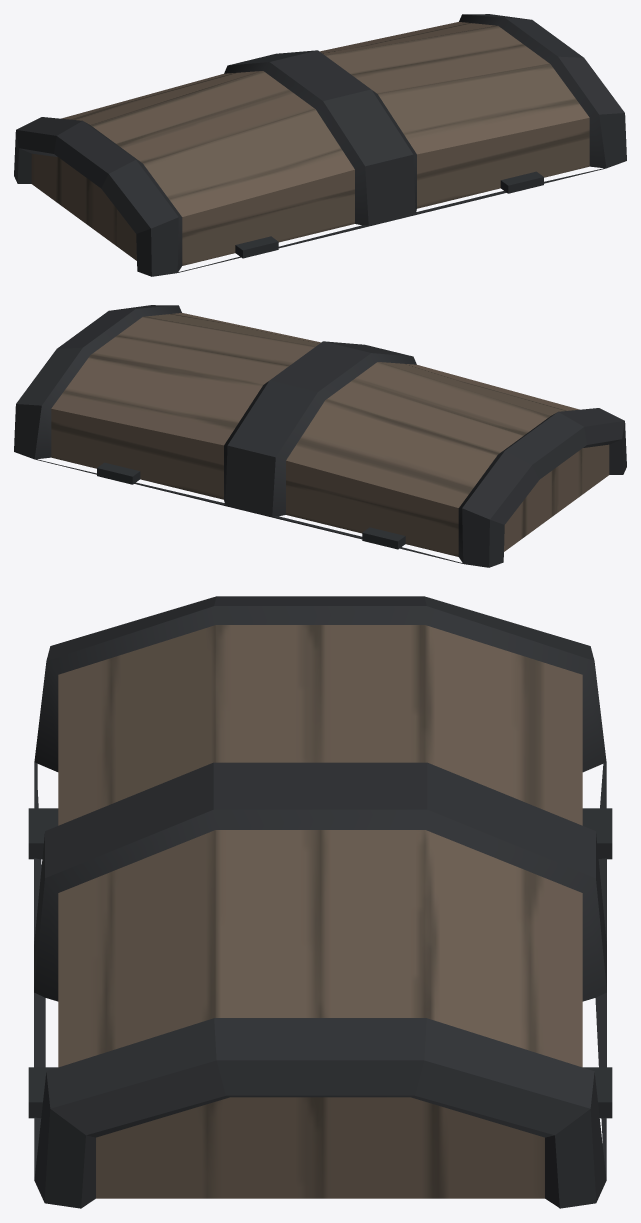
File: lid.glb
The picture shows the model from 3 angles, top to bottom: view 1: azimuth 30°, elevation 25°; view 2: azimuth 150°, elevation 25°; view 3: azimuth 270°, elevation 25°; orthographic projection. The views are drawn at different scales.
Visible parts, largest first — view 1: lid; view 2: lid; view 3: lid.
Boxes of the visible parts, <box> form: lid: <box>14,14,626,276</box>; lid: <box>14,305,626,567</box>; lid: <box>28,596,612,1208</box>.
Bounding box in the file's own units: 1.18 × 0.2144 × 0.6116.
1 material, 1 textured.
